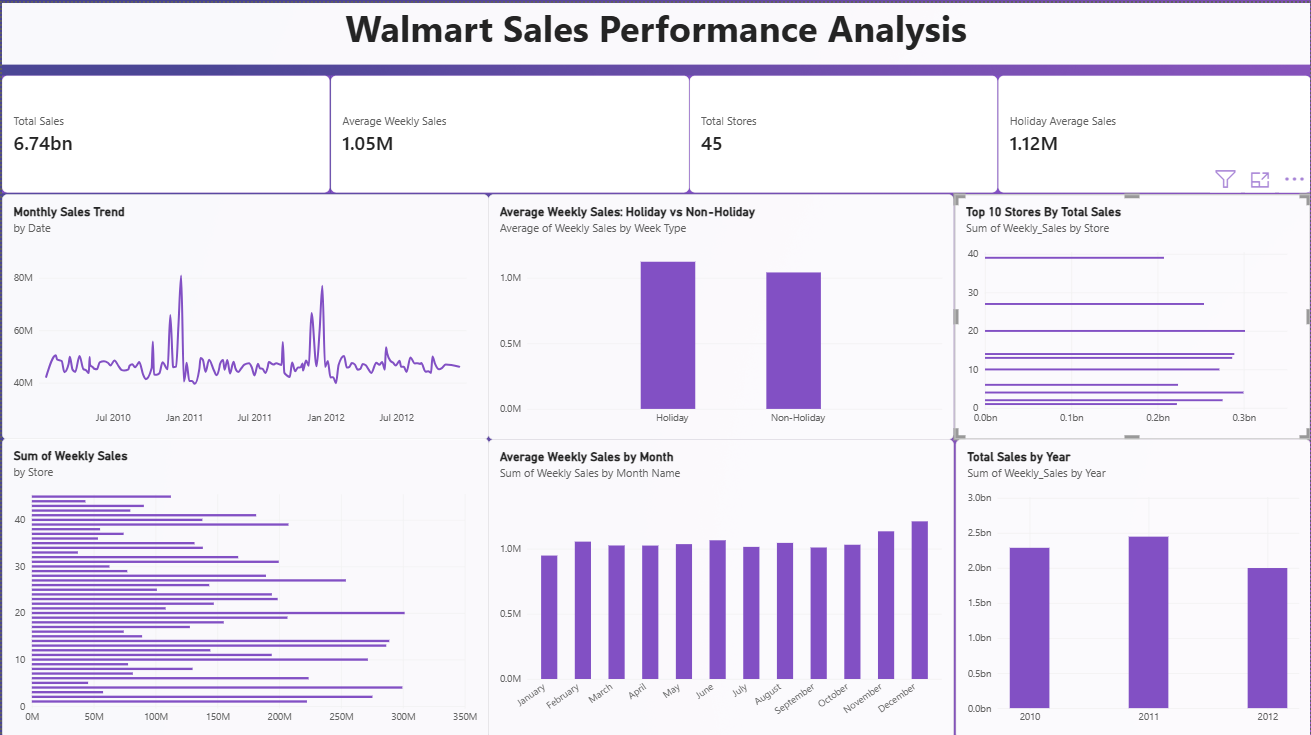

The page's visual inventory and layout, read from the dashboard file:
{"tool":"powerbi","page":{"name":"Page 1","canvas":[1920,1080],"ordinal":0},"visuals":[{"type":"cardVisual","fields":{"Data":["Sum(Walmart_Sales_Cleaned.Weekly_Sales)"]},"box":[0,107,481.6,172.9],"z":0},{"type":"cardVisual","fields":{"Data":["Avg(Walmart_Sales_Cleaned.Weekly_Sales)"]},"box":[481.6,107,526.9,172.9],"z":1000},{"type":"cardVisual","fields":{"Data":["Count(Walmart_Sales_Cleaned.Store)"]},"box":[1008.6,107,452.8,172.9],"z":2000},{"type":"cardVisual","fields":{"Data":["Walmart_Sales_Cleaned.Holiday Average Sales"]},"box":[1461.4,107,459,172.9],"z":3000},{"type":"lineChart","fields":{"Category":["Walmart_Sales_Cleaned.Date"],"Y":["Sum(Walmart_Sales_Cleaned.Weekly_Sales)"]},"box":[0,279.9,714.2,360.2],"z":4000},{"type":"textbox","box":[0,0,1920.1,90.5],"z":5000},{"type":"clusteredBarChart","fields":{"Category":["Walmart_Sales_Cleaned.Store"],"Y":["Sum(Walmart_Sales_Cleaned.Weekly_Sales)"]},"box":[0,638.6,714.2,440.5],"z":6000},{"type":"clusteredColumnChart","title":"Average Weekly Sales: Holiday vs Non-Holiday","fields":{"Y":["Avg(Walmart_Sales_Cleaned.Weekly_Sales)"],"Category":["Walmart_Sales_Cleaned.Week Type"]},"box":[714.2,279.9,683.4,360.2],"z":7000},{"type":"clusteredColumnChart","title":"Average Weekly Sales by Month","fields":{"Y":["Avg(Walmart_Sales_Cleaned.Weekly_Sales)"],"Category":["Walmart_Sales_Cleaned.Month Name"]},"box":[714,640,683,440],"z":8000},{"type":"clusteredBarChart","title":"Top 10 Stores By Total Sales","fields":{"Category":["Walmart_Sales_Cleaned.Store"],"Y":["Sum(Walmart_Sales_Cleaned.Weekly_Sales)"]},"box":[1397.1,280.5,523,360.1],"z":9000},{"type":"clusteredColumnChart","title":"Total Sales by Year","fields":{"Category":["Walmart_Sales_Cleaned.Date.Variation.Date Hierarchy.Year"],"Y":["Sum(Walmart_Sales_Cleaned.Weekly_Sales)"]},"box":[1398.9,640.6,521.2,439.7],"z":10000}]}

Visuals, with their boxes in screenshot pixels (x1, y1, x2, y2), scaled from the page's 1920x1080 canvas onto the 1311x735 screenshot:
cardVisual - Sum(Walmart_Sales_Cleaned.Weekly_Sales): detection(0, 73, 329, 190)
cardVisual - Avg(Walmart_Sales_Cleaned.Weekly_Sales): detection(329, 73, 689, 190)
cardVisual - Count(Walmart_Sales_Cleaned.Store): detection(689, 73, 998, 190)
cardVisual - Walmart_Sales_Cleaned.Holiday Average Sales: detection(998, 73, 1310, 190)
lineChart - Walmart_Sales_Cleaned.Date x Sum(Walmart_Sales_Cleaned.Weekly_Sales): detection(0, 190, 488, 436)
textbox: detection(0, 0, 1310, 62)
clusteredBarChart - Walmart_Sales_Cleaned.Store x Sum(Walmart_Sales_Cleaned.Weekly_Sales): detection(0, 435, 488, 734)
"Average Weekly Sales: Holiday vs Non-Holiday" clusteredColumnChart: detection(488, 190, 954, 436)
"Average Weekly Sales by Month" clusteredColumnChart: detection(488, 436, 954, 734)
"Top 10 Stores By Total Sales" clusteredBarChart: detection(954, 191, 1310, 436)
"Total Sales by Year" clusteredColumnChart: detection(955, 436, 1310, 734)
